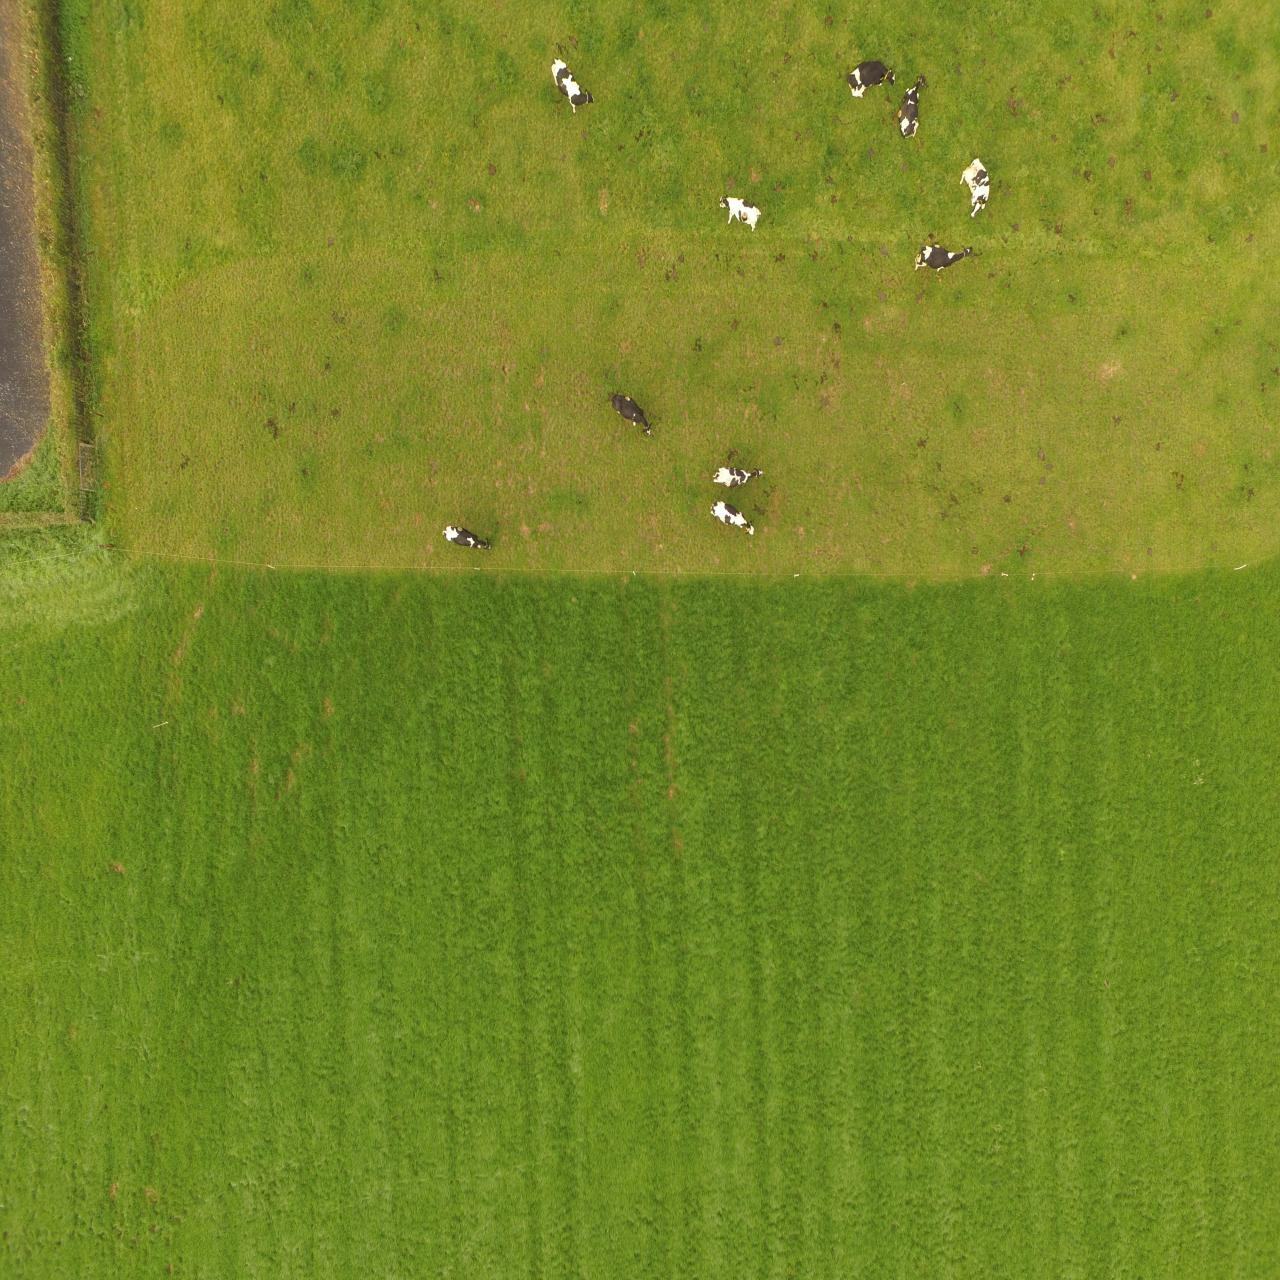cow: (547, 53, 594, 116), (911, 232, 974, 279), (605, 387, 655, 437), (894, 70, 928, 142), (443, 515, 493, 561), (958, 154, 993, 219), (844, 55, 896, 100), (714, 498, 758, 549), (719, 189, 763, 233), (714, 462, 763, 497)
